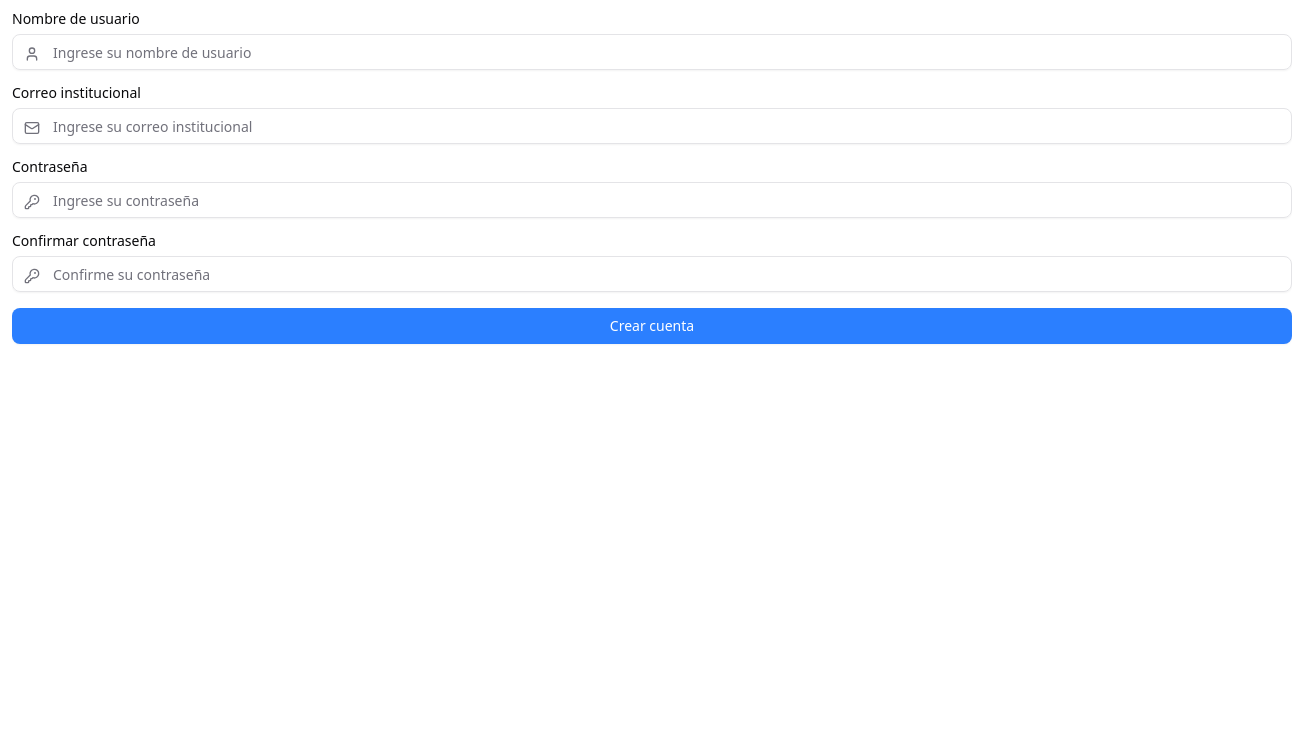
Test: SignupForm › shows validation errors for short password
Type "test@example.com" into the field with test id "signup-email-input" at [652, 126], box [12, 108, 1292, 144]
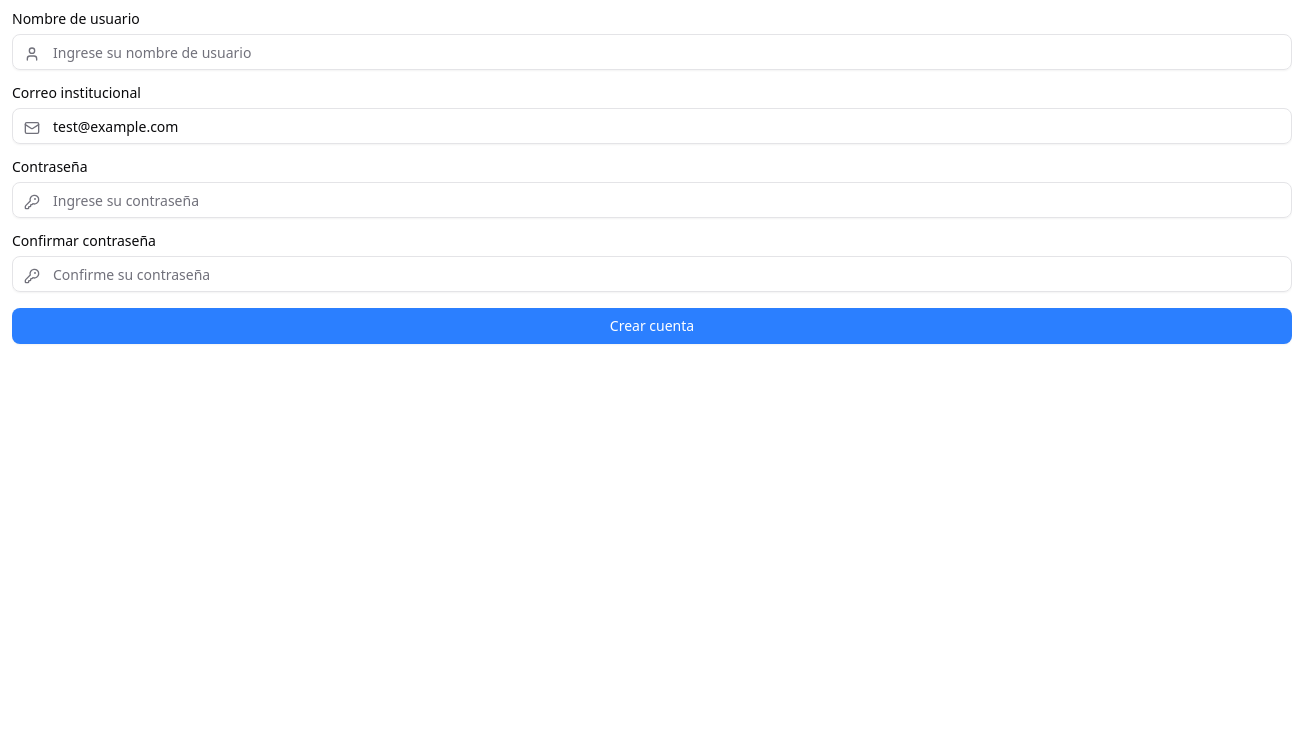
Type "12345" into the password field with test id "signup-password-input" at [652, 200], box [12, 182, 1292, 218]
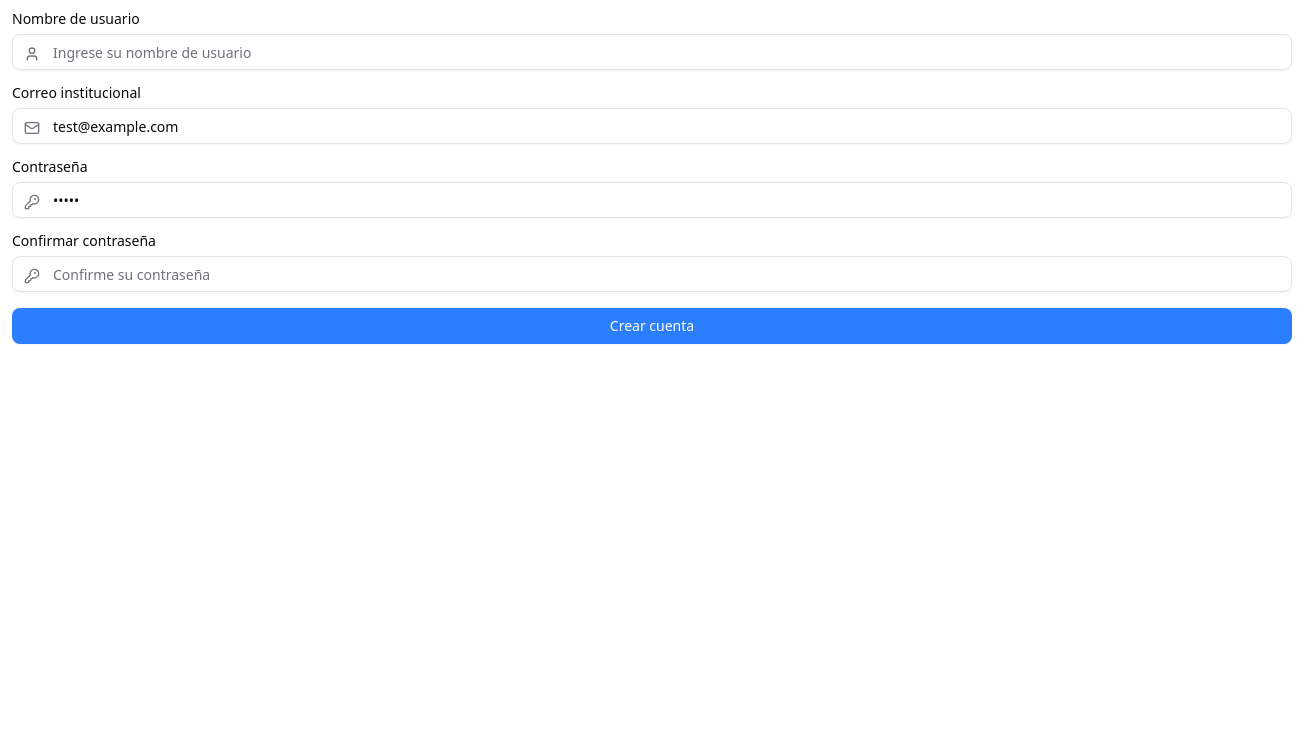
Click the button with test id "signup-submit" at [652, 326], box [12, 308, 1292, 344]
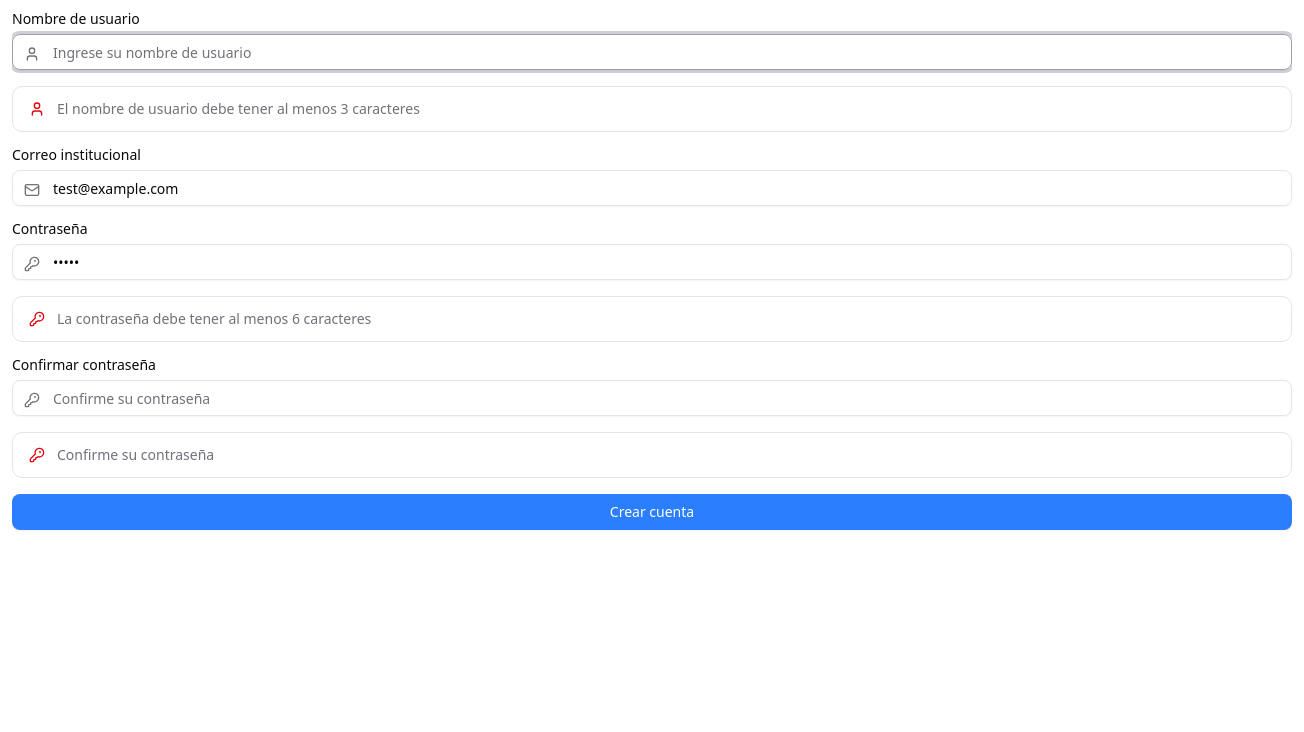
expect the element with test id "signup-password-error" is shown: met, box [12, 296, 1292, 342]
expect the text "La contraseña debe tener al menos 6 caracteres" is shown: met, box [57, 309, 371, 328]
